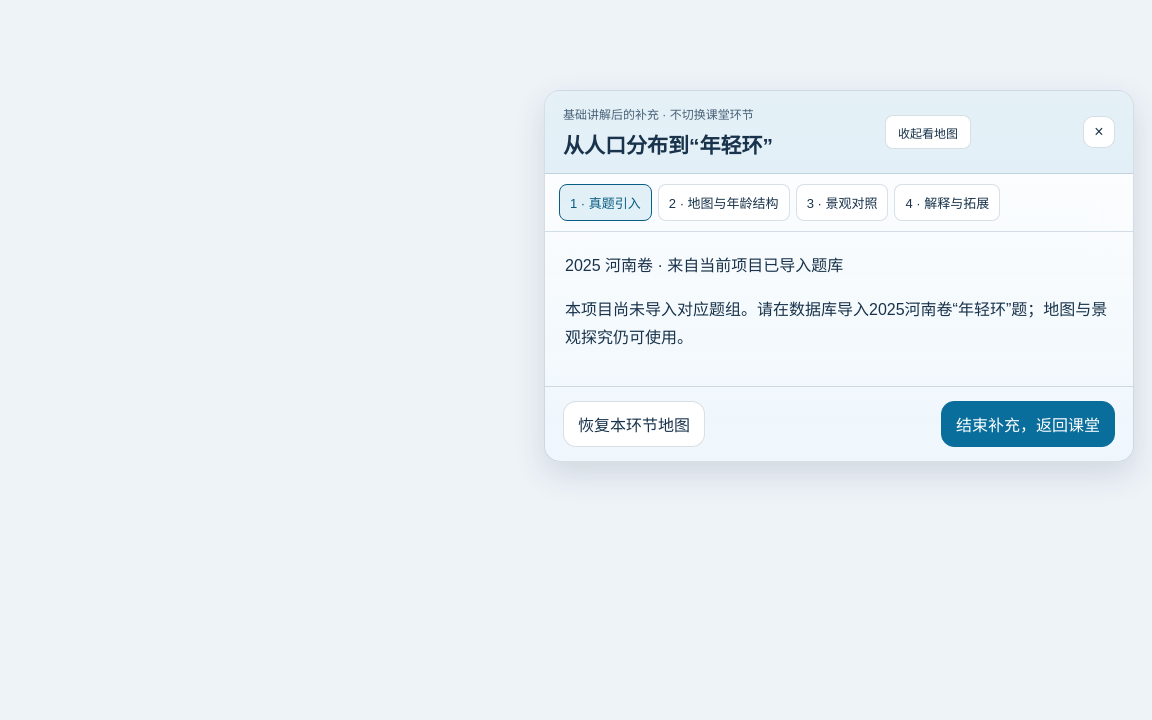
Test: keeps missing questions explicit and never substitutes an invented exam
expect the text "本项目尚未导入对应题组。请在数据库导入2025河南卷“年轻环”题；地图与景观探究仍可使用。" is shown: met, box [565,296,1113,352]
Step 1. Click the button "4 · 解释与拓展" → (947, 203), box [894,184,1000,221]
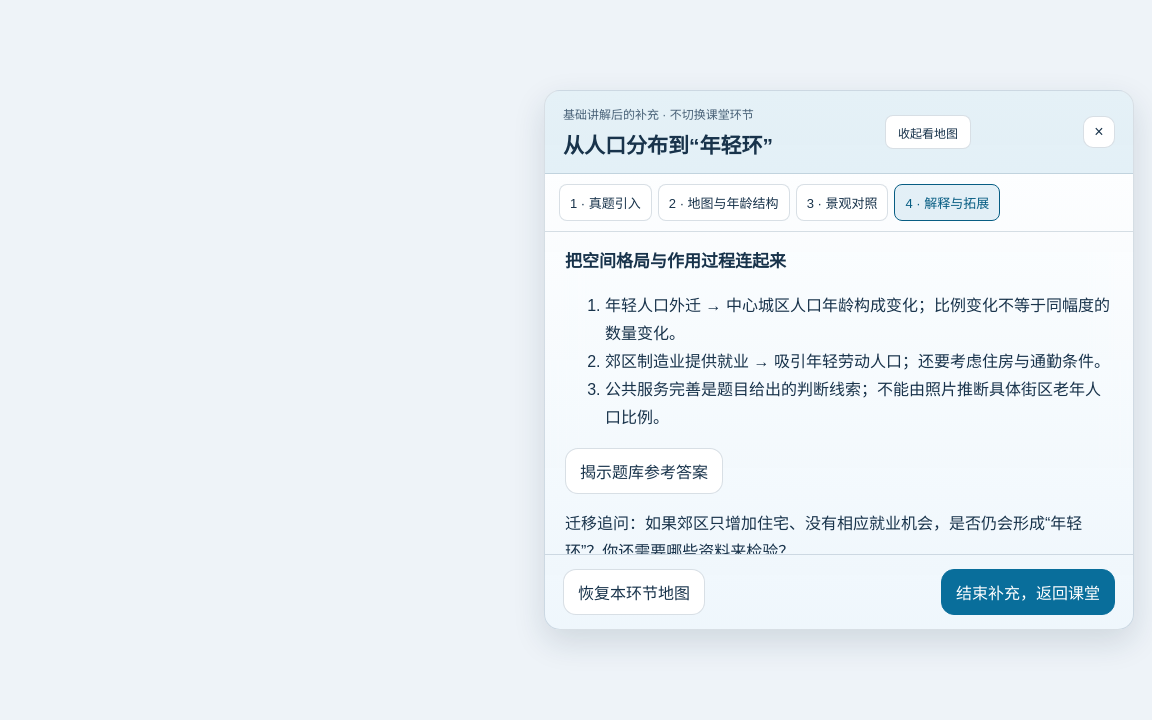
expect the button "揭示题库参考答案" is disabled: met, box [565,448,723,494]
